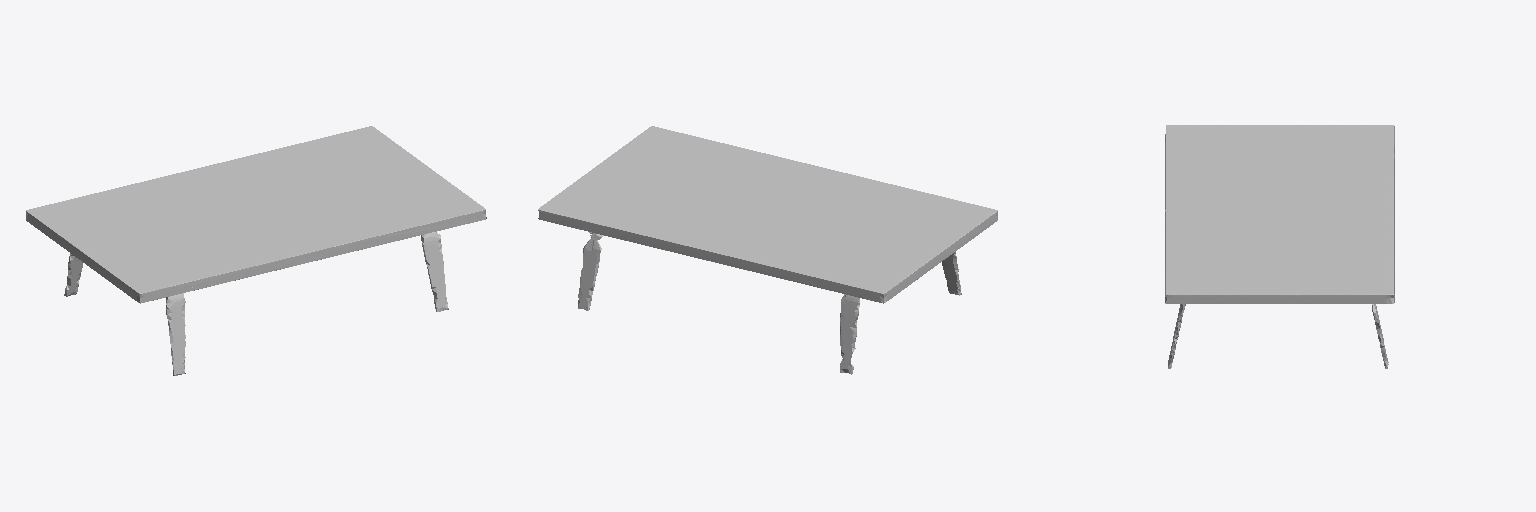
File: desk_s.obj
The picture shows the model from 3 angles: view 1: azimuth 30°, elevation 25°; view 2: azimuth 150°, elevation 25°; view 3: azimuth 270°, elevation 25°; orthographic projection.
Bounding box in the file's own units: 1.08 × 0.2754 × 0.6196.